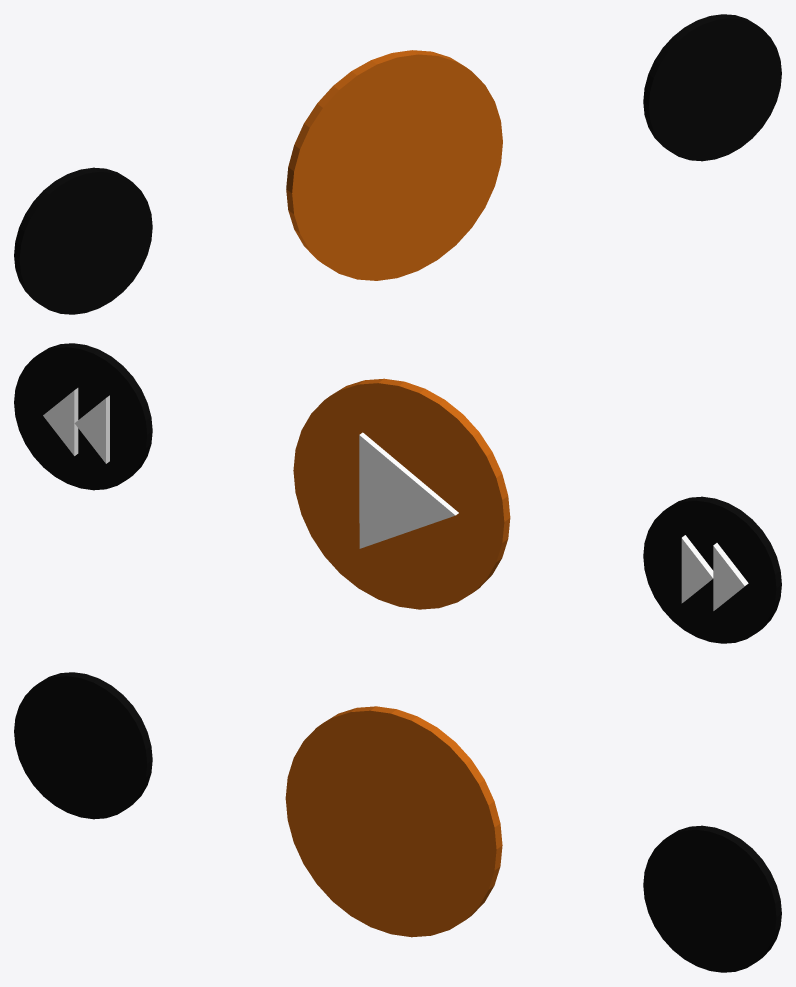
Rendered from screen_controls.fbx.
The picture shows the model from 3 angles, top to bottom: view 1: azimuth 30°, elevation 25°; view 2: azimuth 150°, elevation 25°; view 3: azimuth 330°, elevation 25°; orthographic projection.
Parts seen in each view (by area): view 1: tvbtnplay, tvbtnplay.001, tvbtnplay.002; view 2: tvbtnplay, tvbtnplay.002, tvbtnplay.001, tvbtnplay_arrow, tvbtnright, tvbtnleft; view 3: tvbtnplay, tvbtnplay.001, tvbtnplay.002.
Part boxes in pixels (bbox=[...]): tvbtnplay: bbox=[286, 50, 502, 280]; tvbtnplay.001: bbox=[643, 14, 781, 161]; tvbtnplay.002: bbox=[14, 167, 152, 314]; tvbtnplay: bbox=[293, 378, 510, 609]; tvbtnplay.002: bbox=[643, 496, 781, 643]; tvbtnplay.001: bbox=[14, 343, 152, 490]; tvbtnplay_arrow: bbox=[359, 432, 458, 548]; tvbtnright: bbox=[681, 535, 748, 610]; tvbtnleft: bbox=[43, 388, 109, 463]; tvbtnplay: bbox=[285, 706, 502, 937]; tvbtnplay.001: bbox=[643, 825, 781, 972]; tvbtnplay.002: bbox=[14, 672, 152, 819].
Bounding box in the file's own units: 709 × 196 × 16.83.
